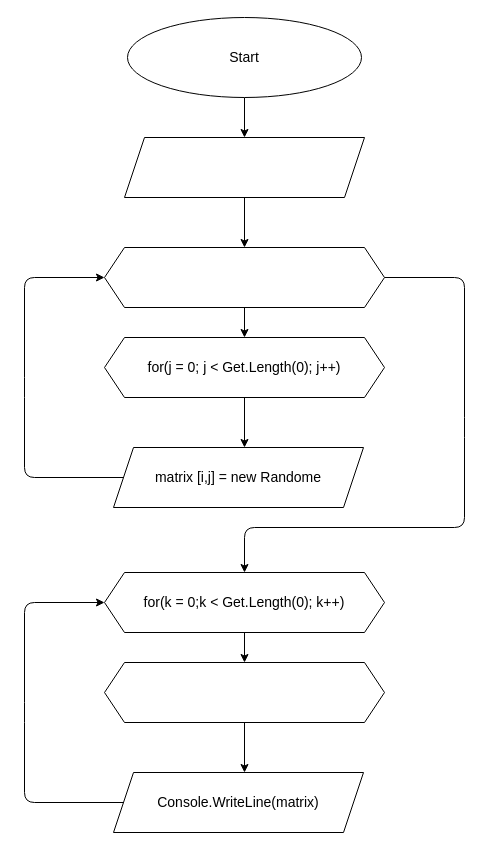
Some shapes in this 490 by 850 pixel diagram are drawn without their labels. The shapes that lost their labels are listed below. From the top down, each one's centre as x and y in pixels, then its label:
[244,167]: " Введите количесьво строк" "Введите количество столбцов"
[244,277]: for(i = 0; i < Get.Length(0); i++)
[244,692]: for(l = 0; l < Get.Length(0); l++)
